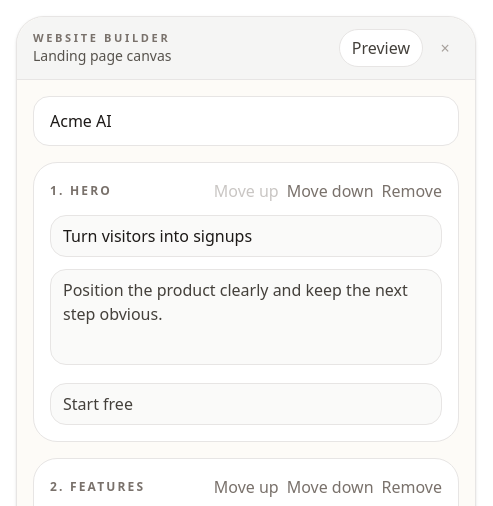
Scenario: WebsiteBuilder › toggles back to edit mode from preview mode
Click the button "Preview".
click(381, 48)  # box [339,29,423,67]
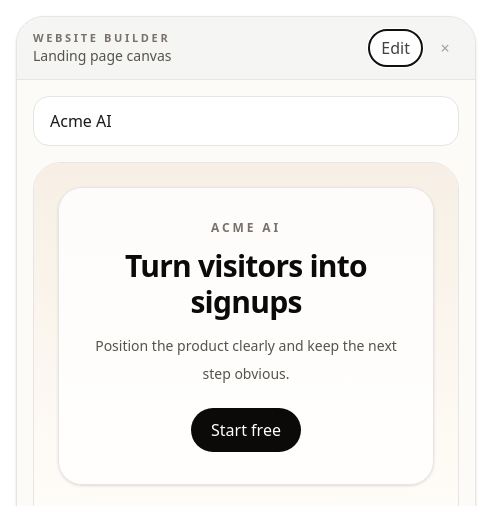
Click the button "Edit".
click(396, 48)  # box [368,29,423,67]
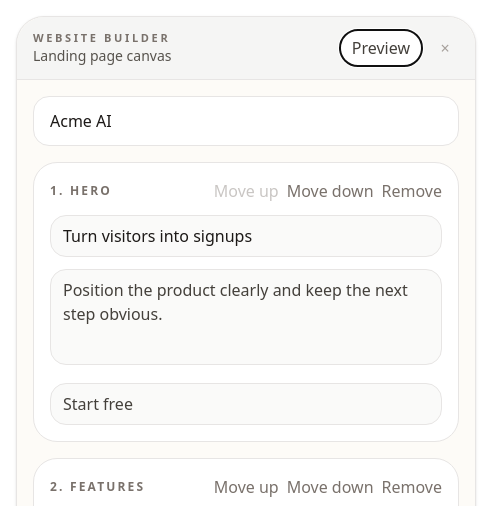
Check: the button "Preview" is shown, box [339,29,423,67]
Check: the 2nd field showing "Turn visitors into signups" is shown, box [50,215,442,257]
